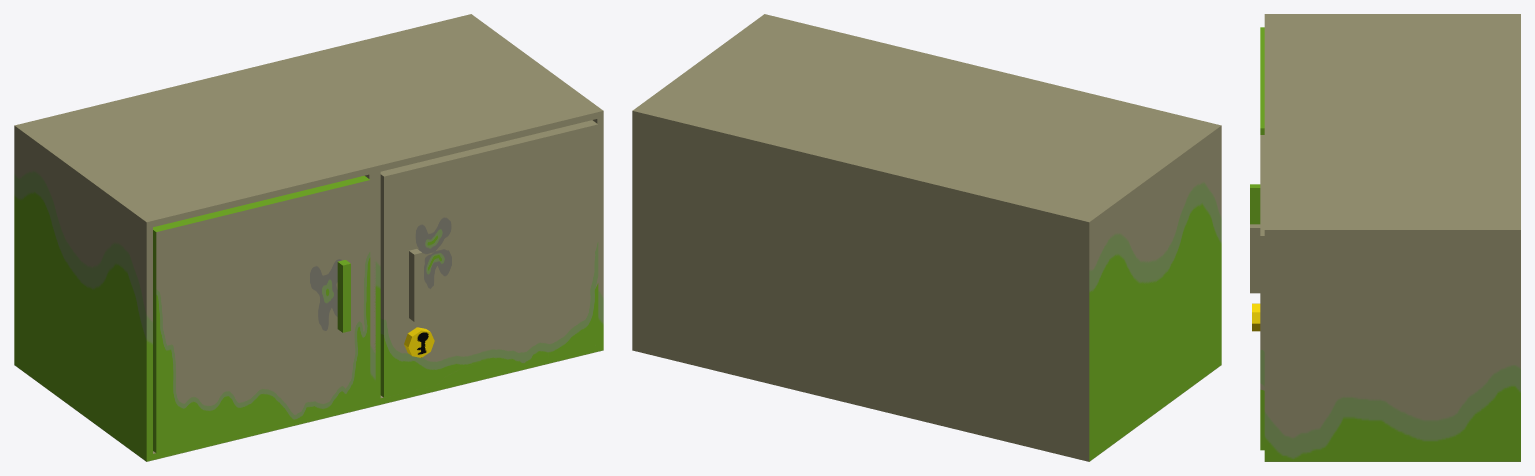
File: cabnet.fbx
3 renders of one model, left to right at view 1: azimuth 30°, elevation 25°; view 2: azimuth 150°, elevation 25°; view 3: azimuth 270°, elevation 25°, orthographic. The views are drawn at different scales.
Visible parts, largest first — view 1: polySurface12, pasted__pCube7, polySurface3, polySurface9; view 2: polySurface12, polySurface9; view 3: polySurface9, polySurface12, pasted__pCube7, polySurface3.
Part boxes in pixels (<box>): polySurface12: <box>14,70,375,461</box>; pasted__pCube7: <box>380,120,598,397</box>; polySurface3: <box>153,175,370,453</box>; polySurface9: <box>243,14,603,405</box>; polySurface12: <box>860,70,1221,461</box>; polySurface9: <box>632,14,992,405</box>; polySurface9: <box>1264,121,1520,461</box>; polySurface12: <box>1264,14,1520,122</box>; pasted__pCube7: <box>1250,135,1264,450</box>; polySurface3: <box>1250,27,1264,224</box>.
Bounding box in the file's own units: 15.22 × 7.63 × 8.07.
Materials: 3 (3 with a texture image).
